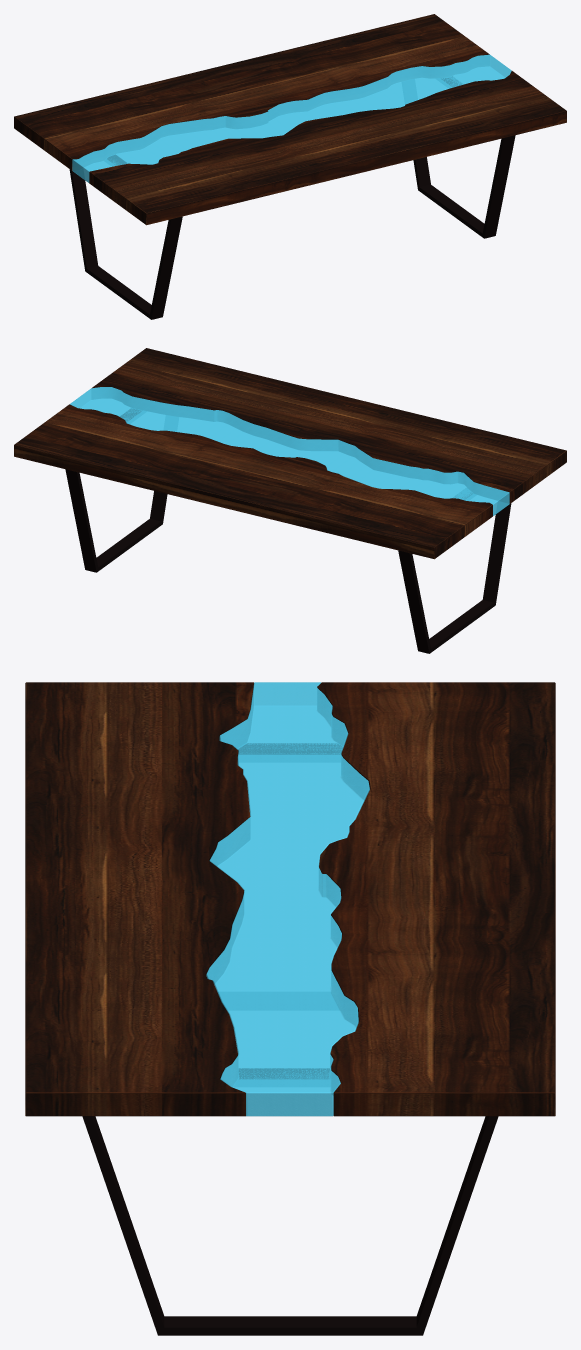
File: stol-derevo.glb
The picture shows the model from 3 angles, top to bottom: view 1: azimuth 30°, elevation 25°; view 2: azimuth 150°, elevation 25°; view 3: azimuth 270°, elevation 25°; orthographic projection. The views are drawn at different scales.
Parts seen in each view (by area): view 1: Mesh_2, Mesh_0, Mesh_1; view 2: Mesh_2, Mesh_0, Mesh_1; view 3: Mesh_2, Mesh_0, Mesh_1.
Part boxes in pixels (x1=…): Mesh_2: x1=14, y1=14, x2=566, y2=225; Mesh_0: x1=72, y1=54, x2=511, y2=182; Mesh_1: x1=69, y1=78, x2=515, y2=319; Mesh_2: x1=14, y1=348, x2=566, y2=559; Mesh_0: x1=70, y1=387, x2=509, y2=515; Mesh_1: x1=65, y1=409, x2=511, y2=653; Mesh_2: x1=25, y1=682, x2=555, y2=1116; Mesh_0: x1=206, y1=682, x2=369, y2=1116; Mesh_1: x1=82, y1=743, x2=498, y2=1335.
Bounding box in the file's own units: 110 × 35 × 60.
Materials: 3 (2 with a texture image).
